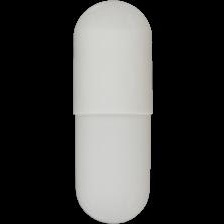60687-185: (0, 0, 224, 224)
